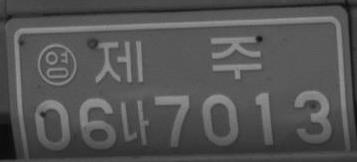0: (200, 92, 239, 148), (32, 98, 71, 152)
1: (249, 90, 285, 145)
3: (293, 89, 333, 144)
6: (77, 95, 117, 150)
7: (153, 93, 190, 149)
나: (119, 98, 151, 146)
영: (36, 42, 76, 87)
제주_D: (92, 34, 262, 83)
